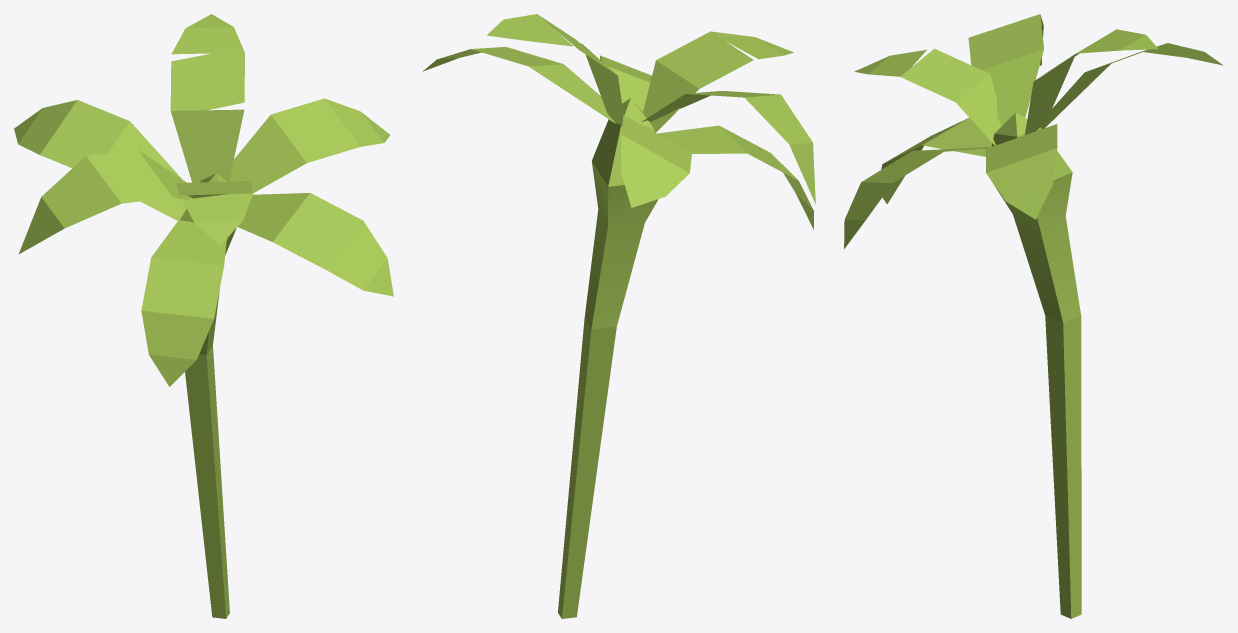
Rendered from grass_08.fbx.
3 views of the same model, side by side, from view 1: azimuth 30°, elevation 25°; view 2: azimuth 150°, elevation 25°; view 3: azimuth 270°, elevation 25° (orthographic). The views are drawn at different scales.
Parts seen in each view (by area): view 1: grass_08; view 2: grass_08; view 3: grass_08.
Boxes of the visible parts, bbox=[...] form: grass_08: bbox=[14, 14, 393, 618]; grass_08: bbox=[423, 14, 815, 618]; grass_08: bbox=[844, 14, 1223, 618].
Bounding box in the file's own units: 56.66 × 82.46 × 48.77.
